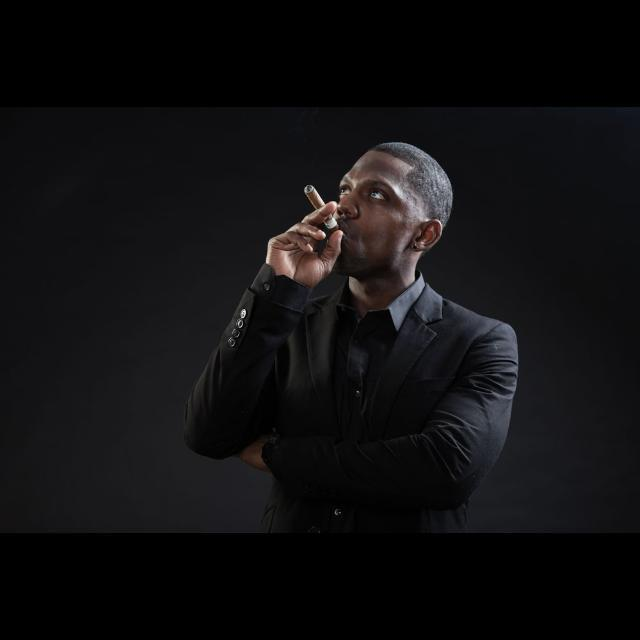rokok: (300, 185, 338, 228)
